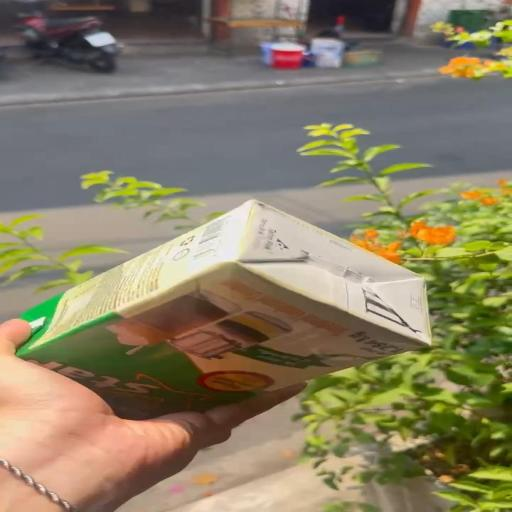ly_giay: (18, 200, 432, 420)
